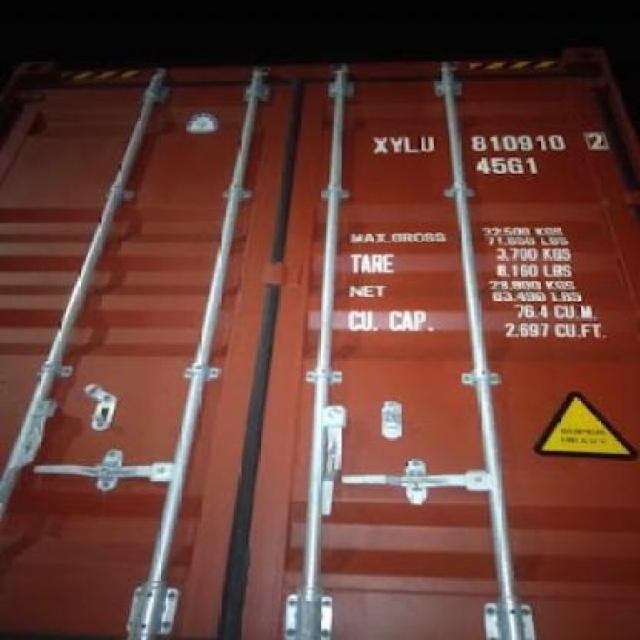ISO: (474, 156, 536, 176)
container_number: (372, 130, 612, 152)
